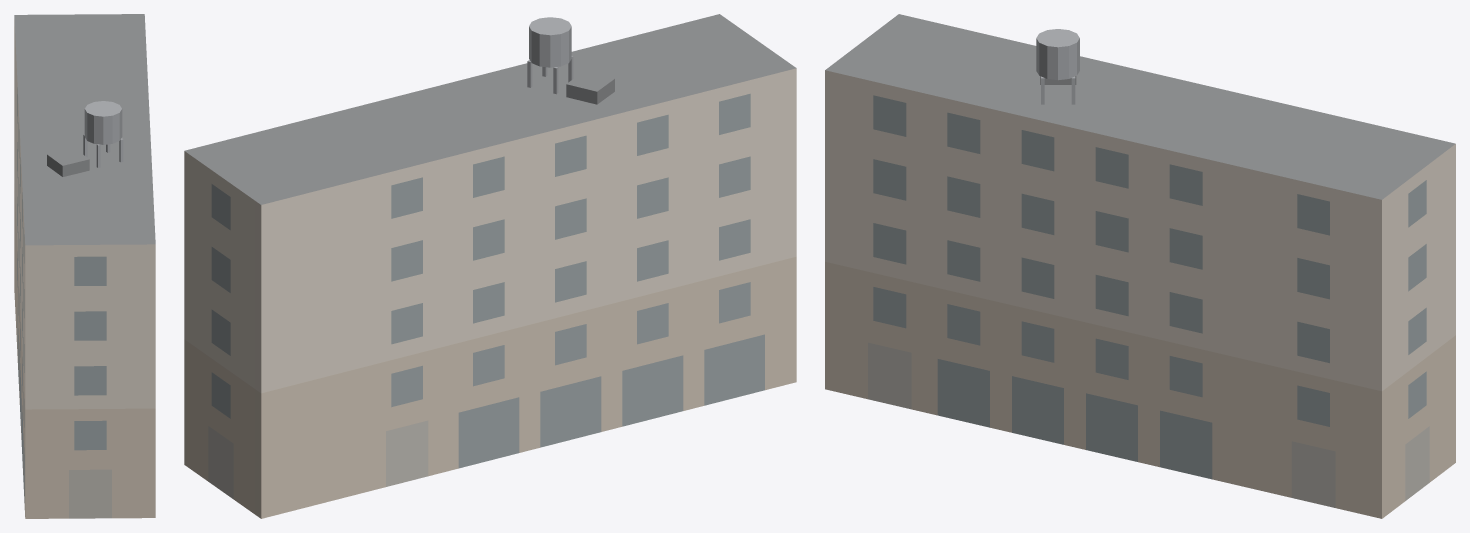
File: doitt-812702__lod_1.glb
The picture shows the model from 3 angles, left to right: view 1: azimuth 30°, elevation 25°; view 2: azimuth 150°, elevation 25°; view 3: azimuth 270°, elevation 25°; orthographic projection. The views are drawn at different scales.
Size of the model in its own units: 21.06 by 19.99 by 30.2.
